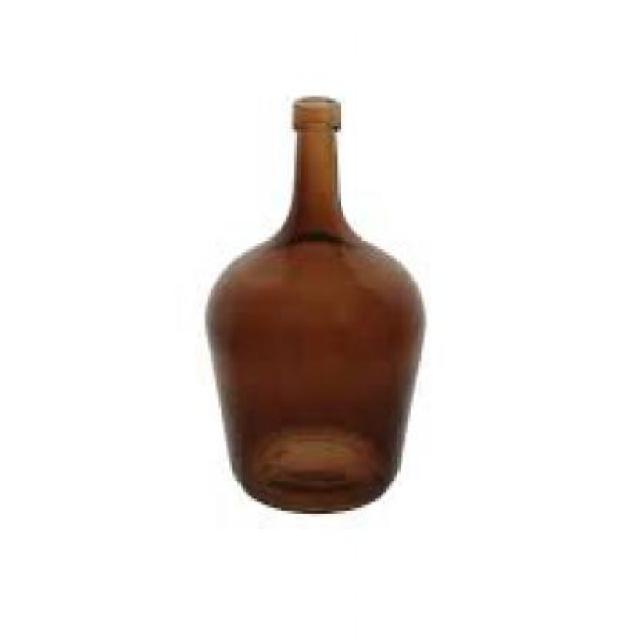kaca: (203, 97, 425, 511)
